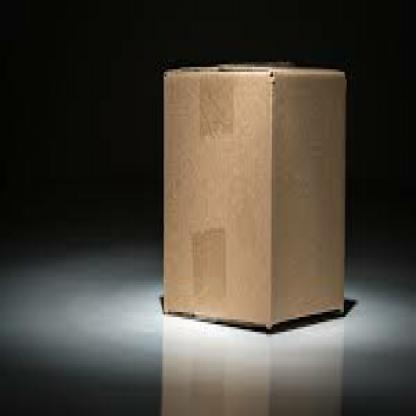box: (158, 65, 359, 345)
